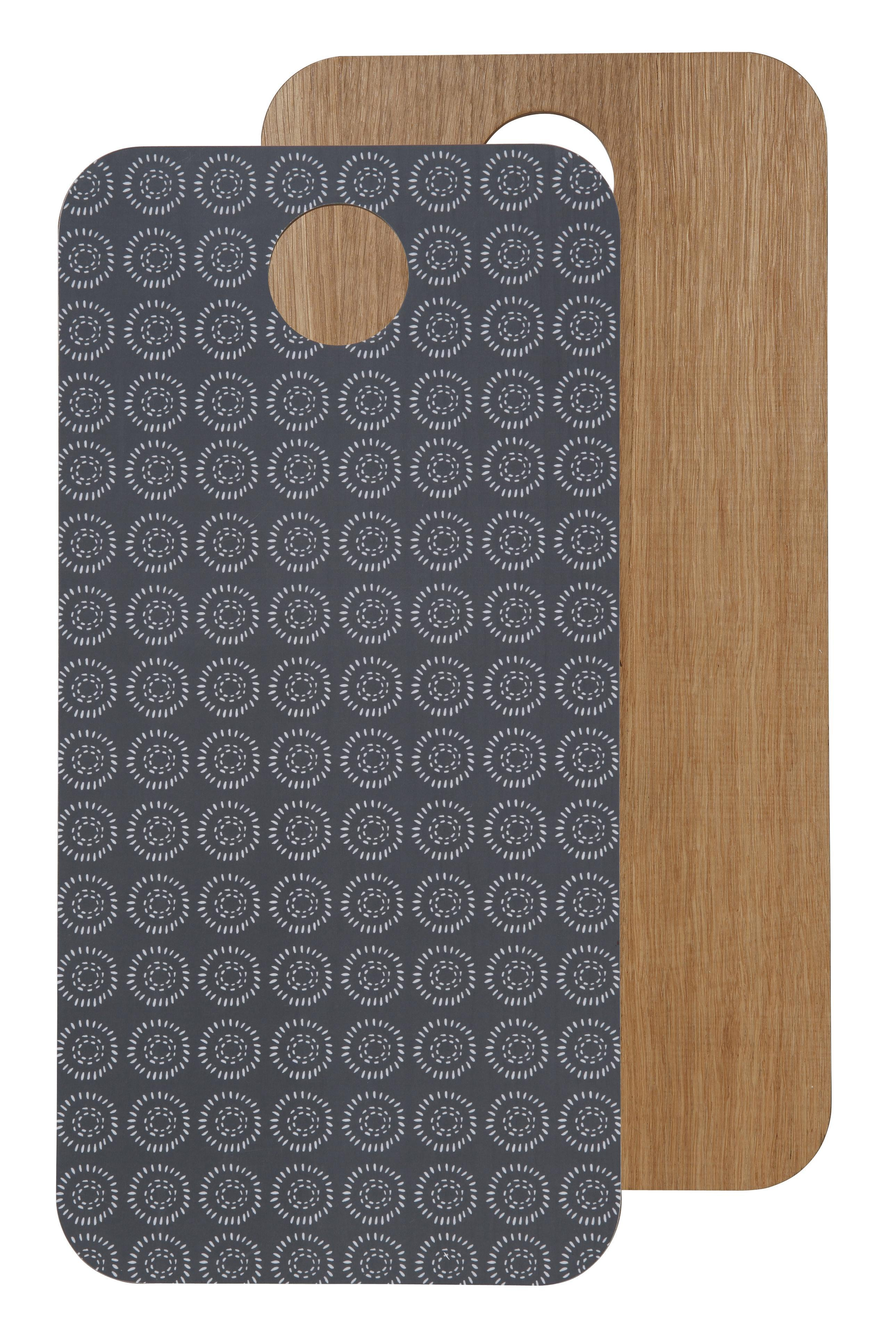gloved_hand: (28, 129, 653, 1304)
